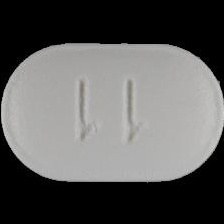0615-7870: (0, 0, 224, 224)
